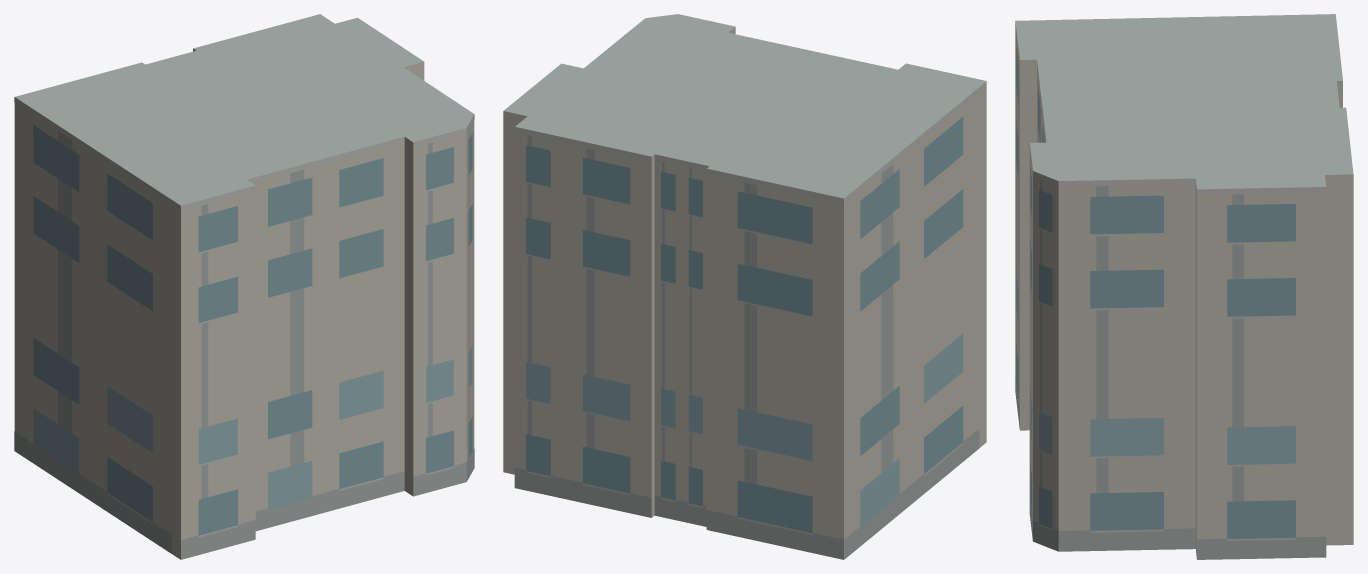
The model's file is survey-upis-32737535.glb.
The picture shows the model from 3 angles, left to right: view 1: azimuth 30°, elevation 25°; view 2: azimuth 150°, elevation 25°; view 3: azimuth 270°, elevation 25°; orthographic projection. The views are drawn at different scales.
Parts seen in each view (by area): view 1: survey-upis-32737535.tmp; view 2: survey-upis-32737535.tmp; view 3: survey-upis-32737535.tmp.
Part boxes in pixels (x1,y1,x2,y2): survey-upis-32737535.tmp: (14,14,474,559); survey-upis-32737535.tmp: (503,14,986,559); survey-upis-32737535.tmp: (1015,14,1353,559).
Size of the model in its own units: 15.49 by 15.25 by 12.62.
